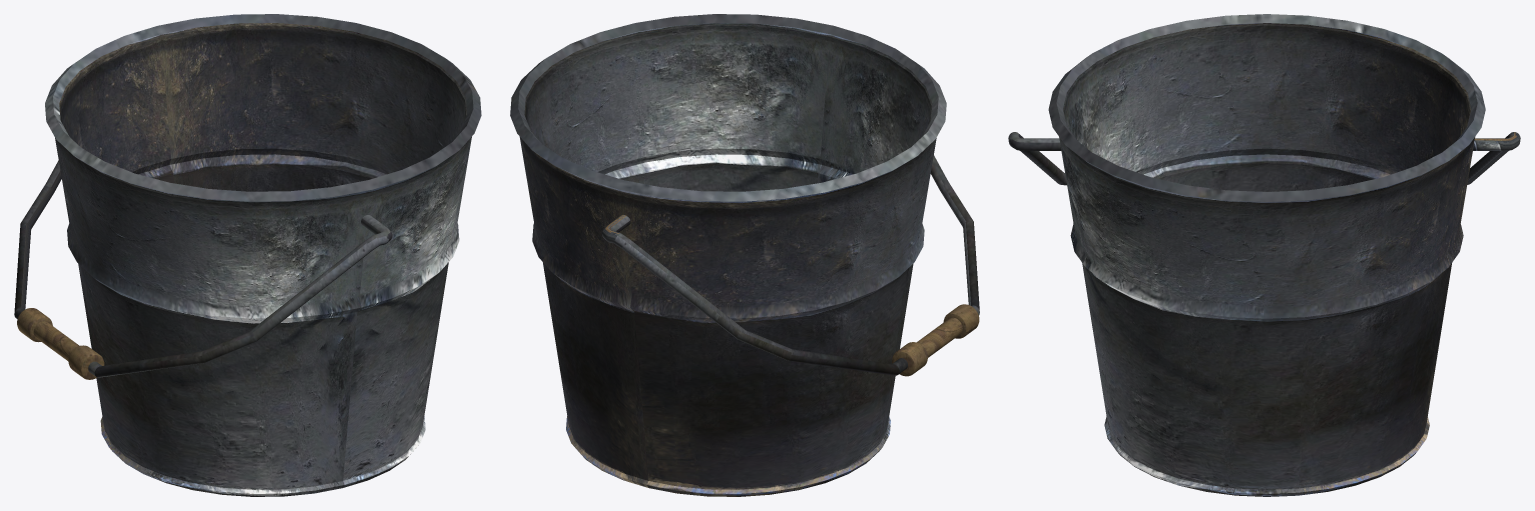
Rendered from bucket.fbx.
3 views of the same model, side by side, from view 1: azimuth 30°, elevation 25°; view 2: azimuth 150°, elevation 25°; view 3: azimuth 270°, elevation 25° (orthographic).
Parts seen in each view (by area): view 1: Circle.001, Cylinder.001, Cylinder; view 2: Circle.001, Cylinder.001, Cylinder; view 3: Circle.001, Cylinder.001.
Part boxes in pixels (x1=…): Circle.001: x1=45, y1=14, x2=481, y2=496; Cylinder.001: x1=14, y1=160, x2=392, y2=377; Cylinder: x1=17, y1=308, x2=104, y2=379; Circle.001: x1=510, y1=14, x2=946, y2=496; Cylinder.001: x1=602, y1=155, x2=979, y2=375; Cylinder: x1=892, y1=304, x2=979, y2=376; Circle.001: x1=1048, y1=14, x2=1485, y2=496; Cylinder.001: x1=1008, y1=132, x2=1520, y2=185.
Bounding box in the file's own units: 214 × 165 × 234.
1 material, 1 textured.
